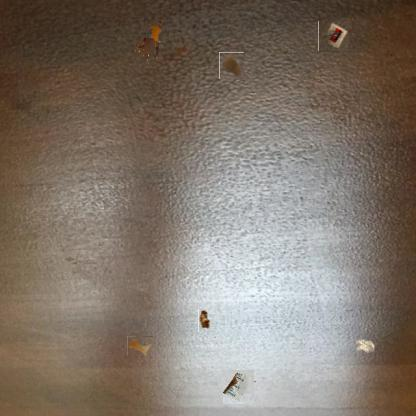dirty: (224, 370, 256, 404), (319, 21, 349, 52), (219, 52, 244, 79), (146, 20, 162, 44), (198, 308, 211, 332), (354, 339, 374, 353)
liquid: (127, 336, 153, 356), (136, 38, 158, 60)
